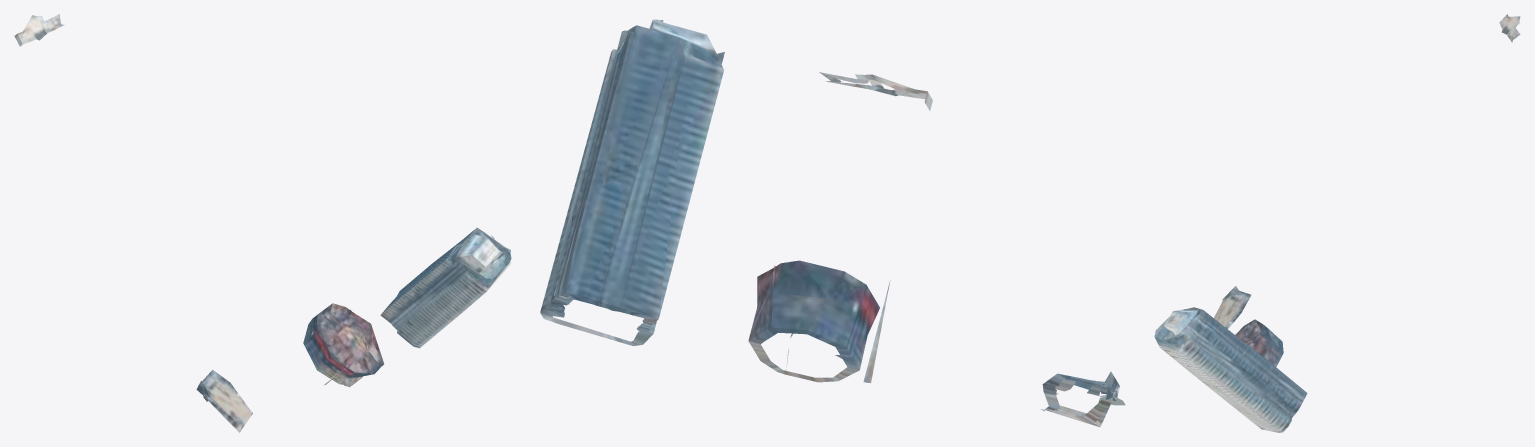
The model's file is AJVsH2wcxxECmhzs5BQkBKQQEemC-znTxzXoXL7L6UaC539ts4KFpsERFBMnurZuDhRdmBuNTGqntzO8bloYfYvIG4yEiGZ6-ttei9I22blhnWKUbCijSxPqUlJEGHGNVMD6g9bhkQQ694R0tvdCuPUAFGwLZx0lTQ.glb.
The picture shows the model from 3 angles, left to right: view 1: azimuth 30°, elevation 25°; view 2: azimuth 150°, elevation 25°; view 3: azimuth 270°, elevation 25°; orthographic projection. The views are drawn at different scales.
Size of the model in its own units: 225 by 204 by 223.
Materials: 1 (1 with a texture image).
